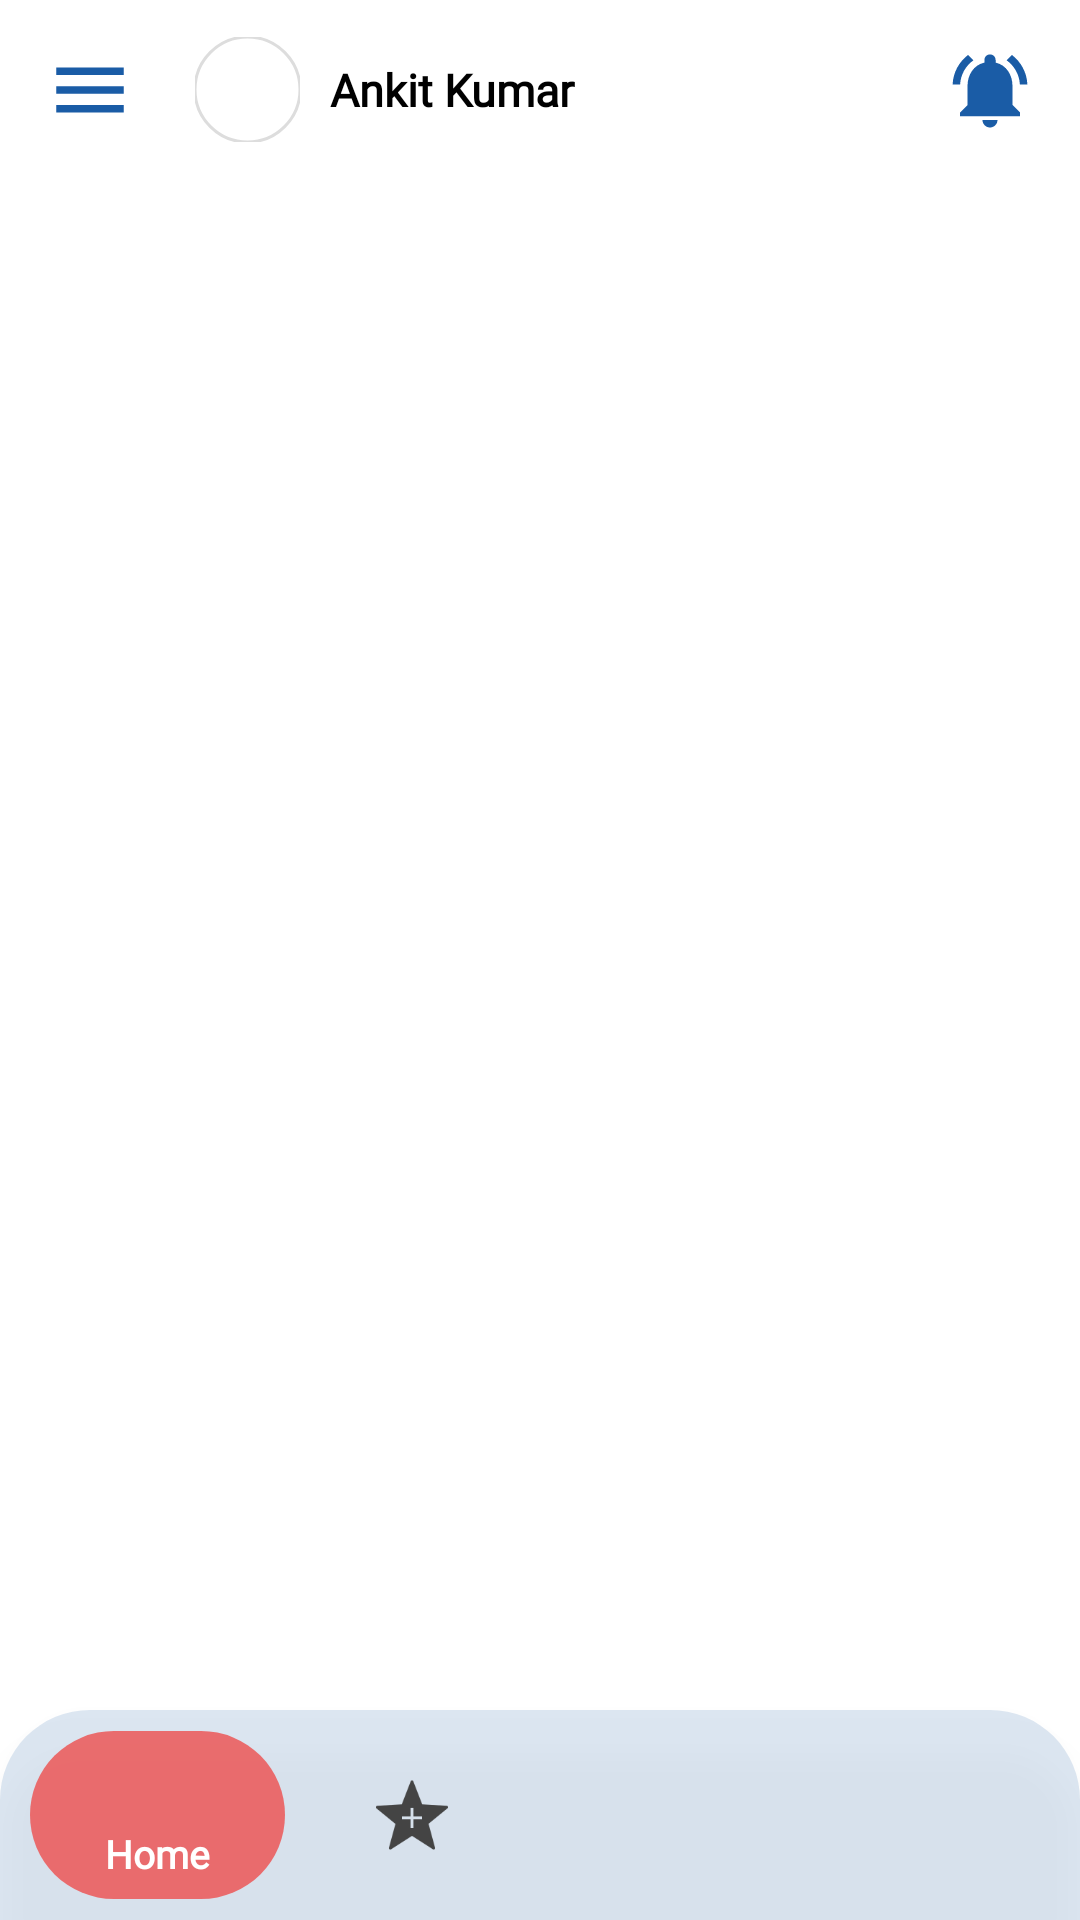

Locate icon controls on the screen. Image size 1080*1920, boxes as (x1, y1, x2, y2).
menu: (56, 67, 124, 113)
notifications: (952, 54, 1028, 128)
